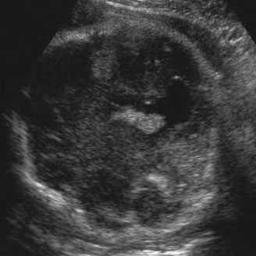abnormal: (16, 24, 223, 240)
